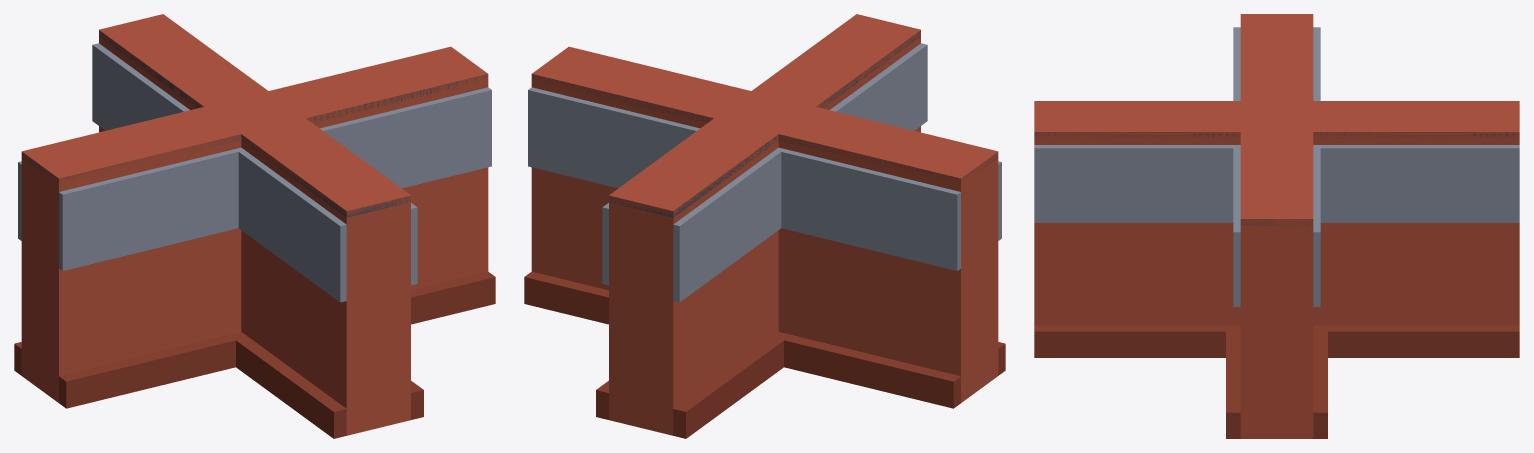
The model's file is partition-cross.glb.
3 renders of one model, left to right at view 1: azimuth 30°, elevation 25°; view 2: azimuth 150°, elevation 25°; view 3: azimuth 270°, elevation 25°, orthographic. The views are drawn at different scales.
Visible parts, largest first — view 1: partition-cross; view 2: partition-cross; view 3: partition-cross.
Boxes of the visible parts, left/top/right/bottom form: partition-cross: left=14, top=14, right=495, bottom=438; partition-cross: left=524, top=14, right=1005, bottom=438; partition-cross: left=1034, top=14, right=1519, bottom=438.
Bounding box in the file's own units: 1 × 0.5 × 1.
1 material, 1 textured.
